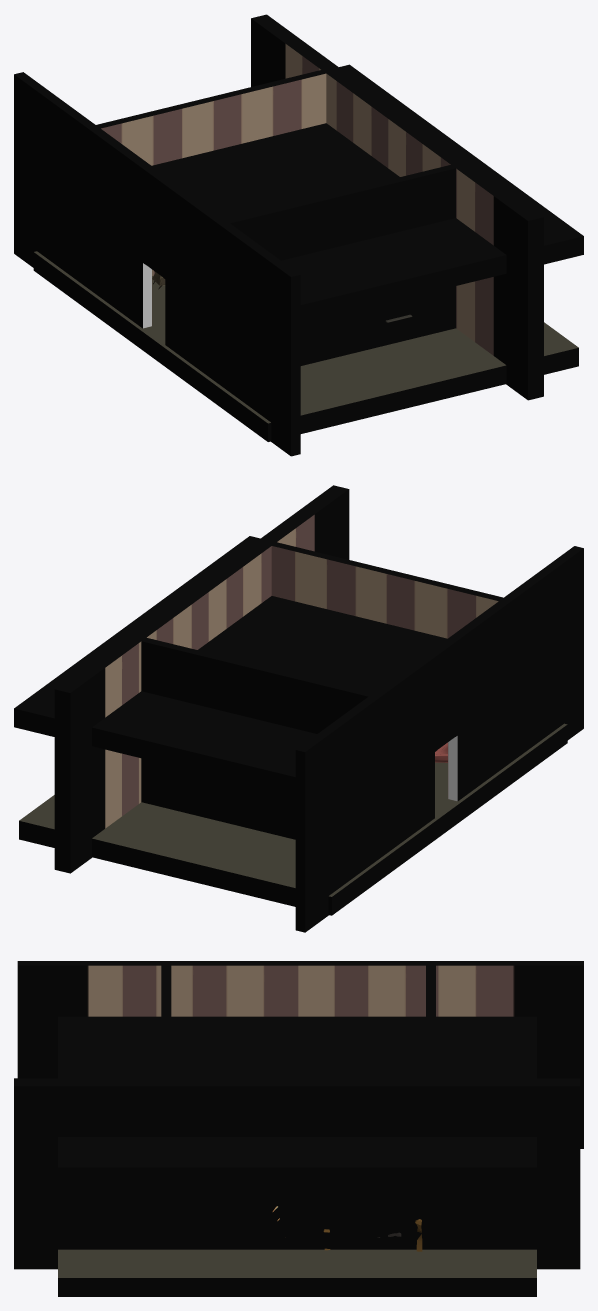
Rendered from Room4.fbx.
The picture shows the model from 3 angles, top to bottom: view 1: azimuth 30°, elevation 25°; view 2: azimuth 150°, elevation 25°; view 3: azimuth 270°, elevation 25°; orthographic projection. The views are drawn at different scales.
Visible parts, largest first — view 1: Room Material; view 2: Room Material, None.001; view 3: Room Material.
Part boxes in pixels (bbox=[...]): Room Material: bbox=[14, 14, 583, 456]; Room Material: bbox=[14, 485, 583, 932]; None.001: bbox=[448, 736, 457, 801]; Room Material: bbox=[14, 961, 583, 1296].
Size of the model in its own units: 1795 by 974 by 2745.
